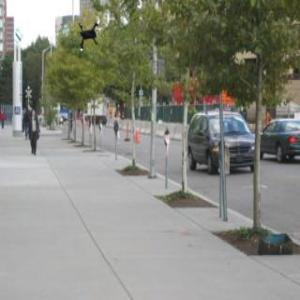drone: (66, 13, 111, 58)
